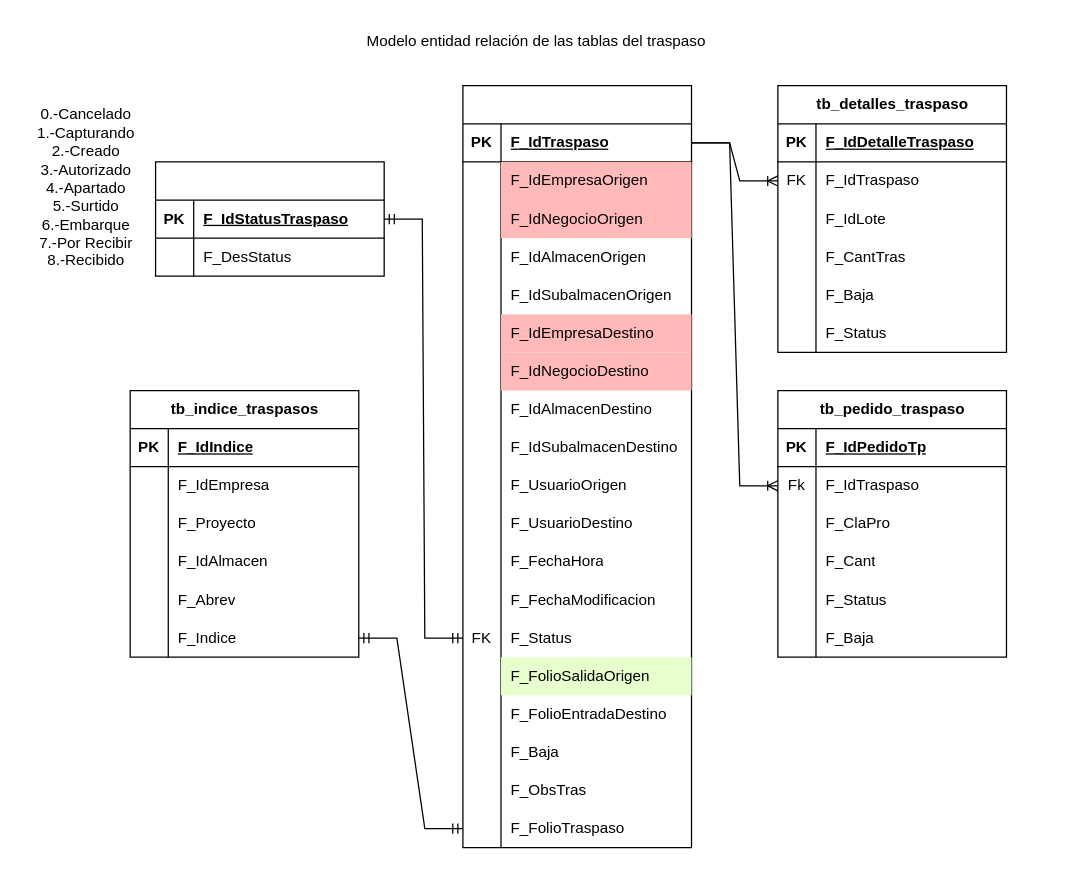
The diagram is 1066 pixels wide and 870 high, and some of its shapes have lost their labels. The box of each missing label's shape, as (x1, y1, x2, y2) in pixels:
tb_status_traspaso: (154, 161, 384, 276)
tb_traspasos: (462, 84, 692, 848)
